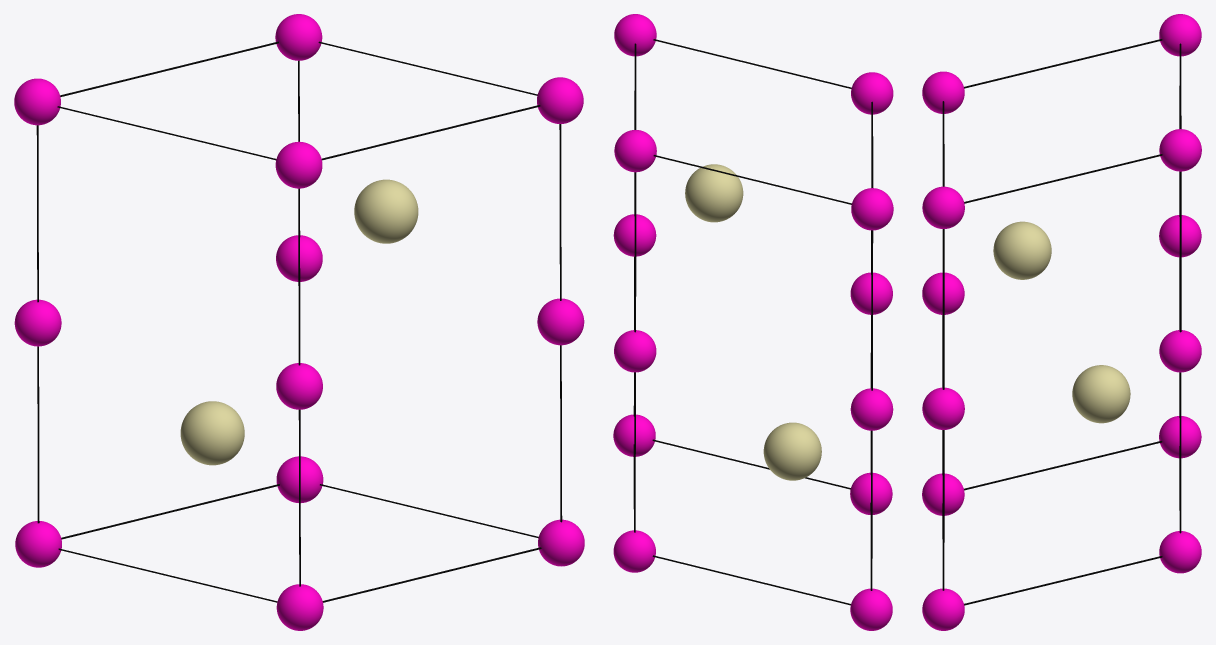
File: MnTe.glb
3 views of the same model, side by side, from view 1: azimuth 30°, elevation 25°; view 2: azimuth 150°, elevation 25°; view 3: azimuth 270°, elevation 25° (orthographic). The views are drawn at different scales.
Visible parts, largest first — view 1: AtomGeometry, AtomGeometry_1, AtomGeometry_2; view 2: AtomGeometry, AtomGeometry_2, AtomGeometry_1; view 3: AtomGeometry, AtomGeometry_2, AtomGeometry_1.
Boxes of the visible parts, <box> form: AtomGeometry: <box>14,14,584,630</box>; AtomGeometry_1: <box>36,41,562,602</box>; AtomGeometry_2: <box>180,179,418,465</box>; AtomGeometry: <box>613,14,893,630</box>; AtomGeometry_2: <box>685,164,821,480</box>; AtomGeometry_1: <box>633,39,873,605</box>; AtomGeometry: <box>922,14,1201,630</box>; AtomGeometry_2: <box>993,221,1130,423</box>; AtomGeometry_1: <box>942,39,1181,605</box>.
Bounding box in the file's own units: 0.6686 × 0.716 × 0.4118.
